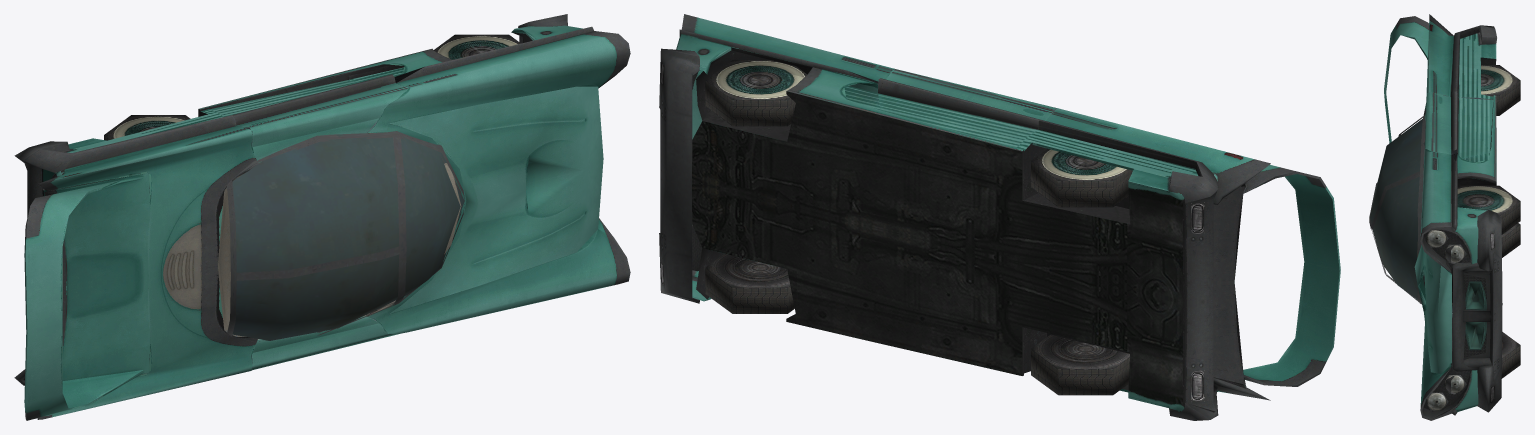
The model's file is veh_t6_nuketown_2020_car01_clean_LOD3.obj.
The picture shows the model from 3 angles, left to right: view 1: azimuth 30°, elevation 25°; view 2: azimuth 150°, elevation 25°; view 3: azimuth 270°, elevation 25°; orthographic projection. The views are drawn at different scales.
Visible parts, largest first — view 1: mtl_nt_2020_car_01_exterior, mtl_nt_2020_car_01_glass_out, mtl_nt_2020_car_01_glass_in, mtl_nt_2020_car_01_tire, mtl_nt_2020_car_01_interior; view 2: mtl_nt_2020_car_01_exterior, mtl_nt_2020_car_01_tire; view 3: mtl_nt_2020_car_01_exterior, mtl_nt_2020_car_01_glass_out, mtl_nt_2020_car_01_tire, mtl_nt_2020_car_01_glass_in, mtl_nt_2020_car_01_interior.
Part boxes in pixels (x1,y1,x2,y2): mtl_nt_2020_car_01_exterior: [14, 14, 630, 420]; mtl_nt_2020_car_01_glass_out: [232, 134, 464, 340]; mtl_nt_2020_car_01_glass_in: [233, 134, 463, 340]; mtl_nt_2020_car_01_tire: [104, 34, 520, 140]; mtl_nt_2020_car_01_interior: [62, 67, 461, 374]; mtl_nt_2020_car_01_exterior: [659, 14, 1340, 420]; mtl_nt_2020_car_01_tire: [705, 60, 1132, 395]; mtl_nt_2020_car_01_exterior: [1369, 14, 1502, 420]; mtl_nt_2020_car_01_glass_out: [1370, 119, 1424, 300]; mtl_nt_2020_car_01_tire: [1457, 65, 1520, 378]; mtl_nt_2020_car_01_glass_in: [1371, 121, 1424, 295]; mtl_nt_2020_car_01_interior: [1417, 92, 1493, 317].
Bounding box in the file's own units: 538 × 206 × 146.
